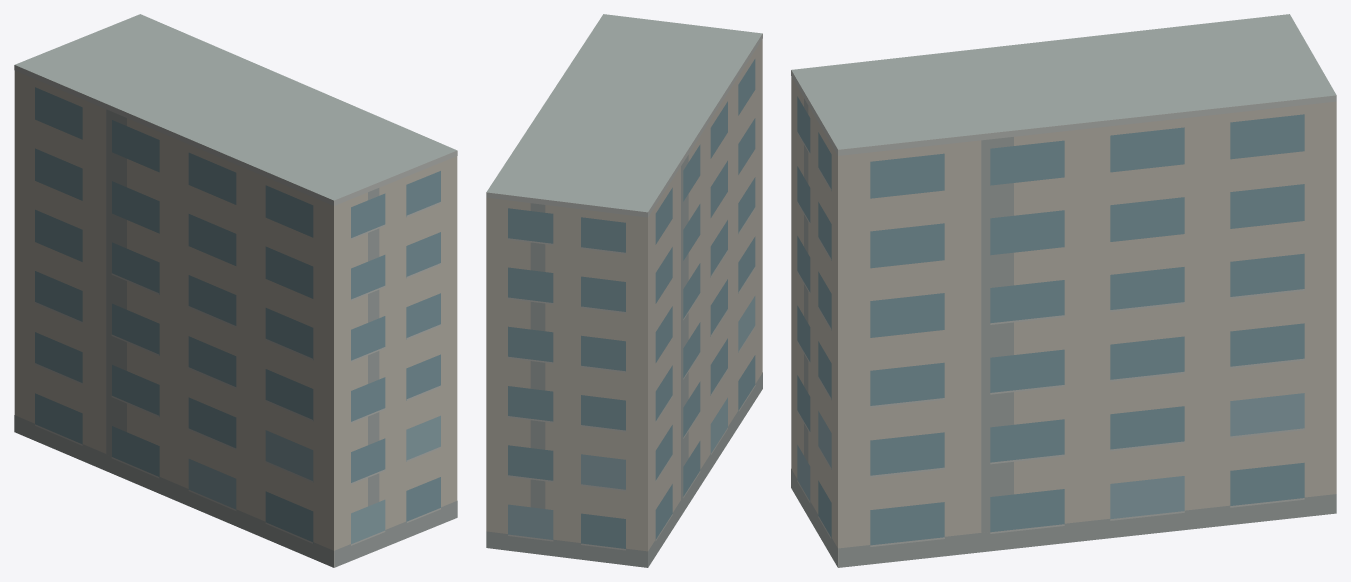
Rendered from survey-upis-32562110.glb.
3 views of the same model, side by side, from view 1: azimuth 30°, elevation 25°; view 2: azimuth 150°, elevation 25°; view 3: azimuth 270°, elevation 25° (orthographic). The views are drawn at different scales.
Visible parts, largest first — view 1: survey-upis-32562110.tmp; view 2: survey-upis-32562110.tmp; view 3: survey-upis-32562110.tmp.
Part boxes in pixels (x1,y1,x2,y2): survey-upis-32562110.tmp: (14,14,457,567); survey-upis-32562110.tmp: (486,14,762,567); survey-upis-32562110.tmp: (791,14,1336,567).
Size of the model in its own units: 11.5 by 16.5 by 19.52.
